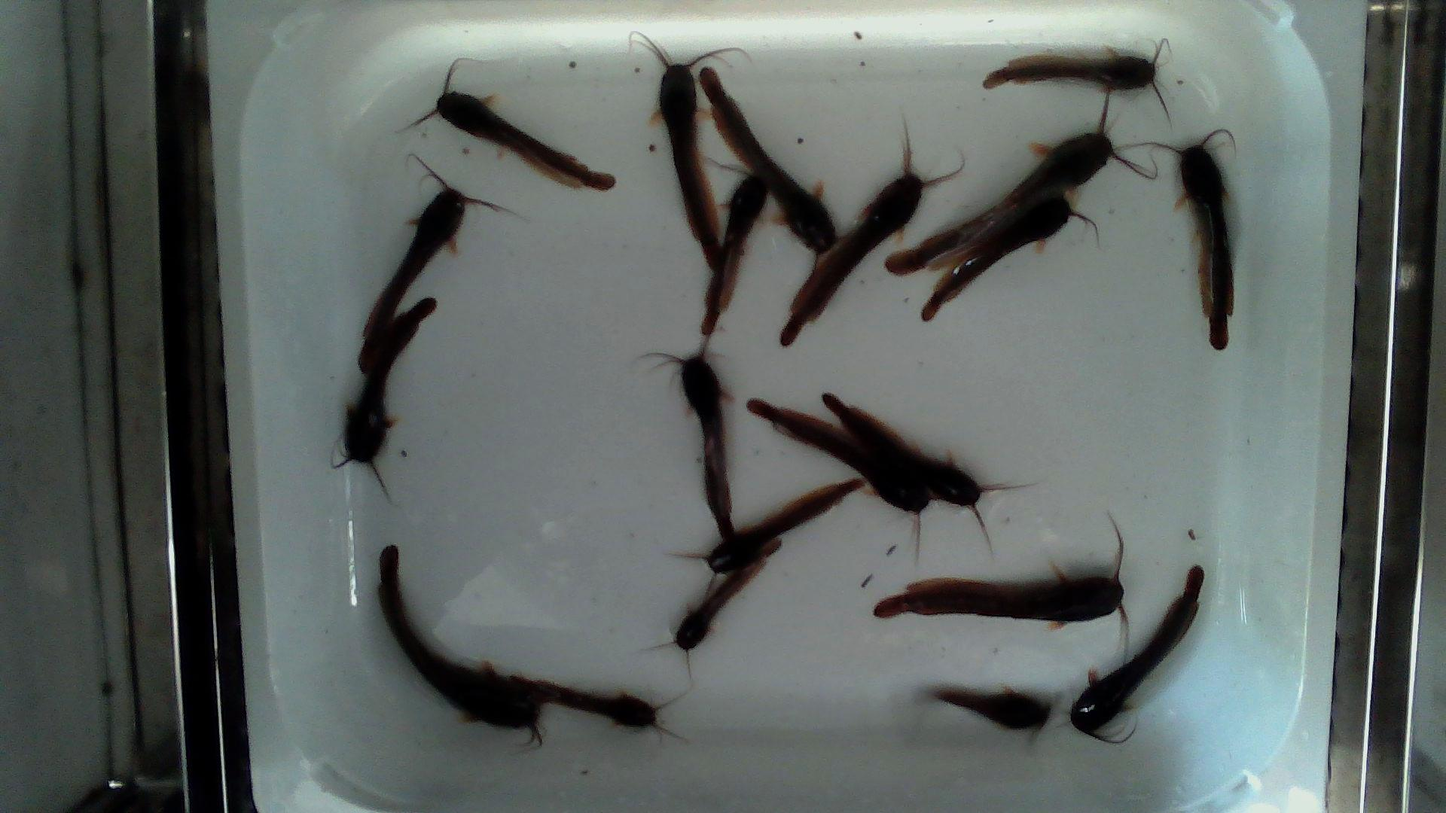lele: (886, 93, 1158, 276), (780, 117, 969, 345), (874, 513, 1129, 659), (822, 392, 1037, 561), (378, 544, 544, 754), (358, 152, 512, 375), (746, 397, 945, 562), (628, 31, 754, 272), (700, 66, 846, 271), (409, 59, 614, 190), (671, 477, 865, 597), (1070, 566, 1203, 741), (920, 196, 1102, 322), (1129, 129, 1233, 349), (329, 297, 437, 502), (638, 335, 735, 539), (644, 539, 781, 680), (983, 39, 1168, 120), (485, 667, 685, 739), (700, 162, 769, 335), (934, 688, 1050, 728)
